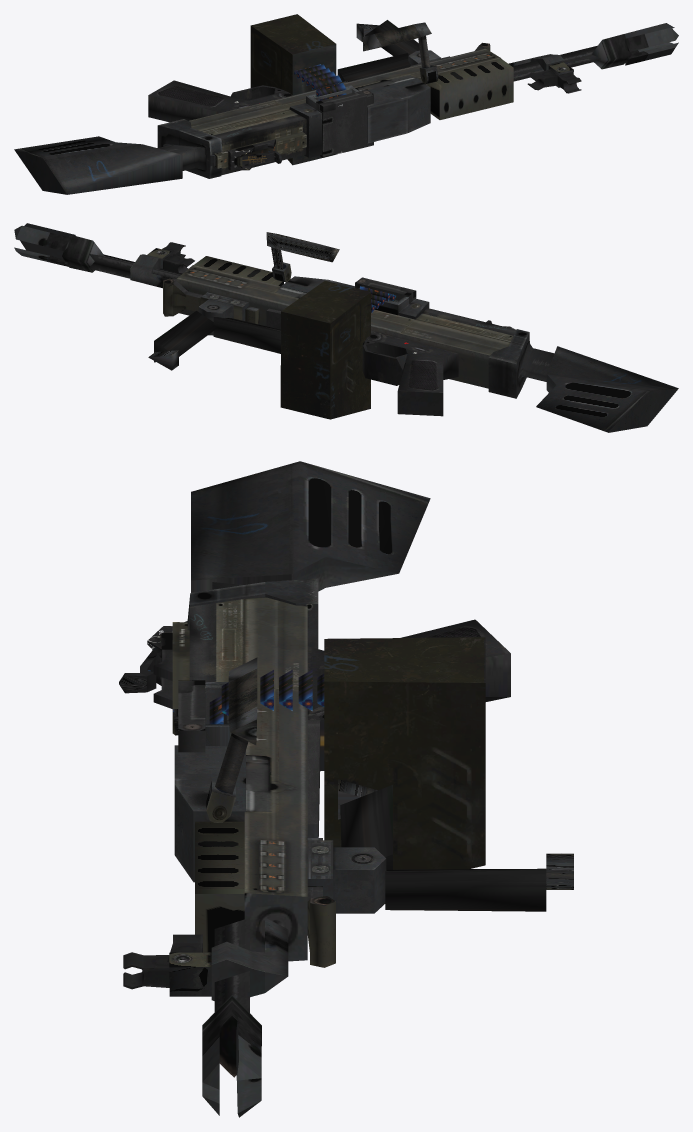
The model's file is t6_wpn_lmg_lsat_world_LOD1.obj.
3 views of the same model, one above another, from view 1: azimuth 30°, elevation 25°; view 2: azimuth 150°, elevation 25°; view 3: azimuth 270°, elevation 25° (orthographic). The views are drawn at different scales.
Visible parts, largest first — view 1: mtl_t6_wpn_lmg_lsat_camo2, mtl_t6_wpn_lmg_lsat_camo1, mtl_t6_wpn_lmg_lsat_camo3, mtl_t6_wpn_lmg_lsat_ammo, mtl_t6_wpn_lmg_lsat_camo4; view 2: mtl_t6_wpn_lmg_lsat_camo2, mtl_t6_wpn_lmg_lsat_camo1, mtl_t6_wpn_lmg_lsat_ammo, mtl_t6_wpn_lmg_lsat_camo3, mtl_t6_wpn_lmg_lsat_camo4; view 3: mtl_t6_wpn_lmg_lsat_camo2, mtl_t6_wpn_lmg_lsat_camo1, mtl_t6_wpn_lmg_lsat_ammo, mtl_t6_wpn_lmg_lsat_camo3, mtl_t6_wpn_lmg_lsat_camo4.
Part boxes in pixels (box(x1,y1,x2,y2)): mtl_t6_wpn_lmg_lsat_camo2: box(14, 23, 678, 194); mtl_t6_wpn_lmg_lsat_camo1: box(157, 22, 629, 175); mtl_t6_wpn_lmg_lsat_camo3: box(189, 28, 678, 165); mtl_t6_wpn_lmg_lsat_ammo: box(250, 14, 336, 165); mtl_t6_wpn_lmg_lsat_camo4: box(230, 20, 609, 170); mtl_t6_wpn_lmg_lsat_camo2: box(14, 223, 678, 432); mtl_t6_wpn_lmg_lsat_camo1: box(64, 232, 554, 388); mtl_t6_wpn_lmg_lsat_ammo: box(280, 281, 370, 419); mtl_t6_wpn_lmg_lsat_camo3: box(14, 226, 510, 355); mtl_t6_wpn_lmg_lsat_camo4: box(85, 234, 490, 356); mtl_t6_wpn_lmg_lsat_camo2: box(147, 461, 510, 1113); mtl_t6_wpn_lmg_lsat_camo1: box(119, 582, 573, 1000); mtl_t6_wpn_lmg_lsat_ammo: box(324, 637, 485, 869); mtl_t6_wpn_lmg_lsat_camo3: box(174, 597, 335, 1117); mtl_t6_wpn_lmg_lsat_camo4: box(119, 641, 546, 967).
Size of the model in its own units: 91.51 by 18.05 by 29.11.
